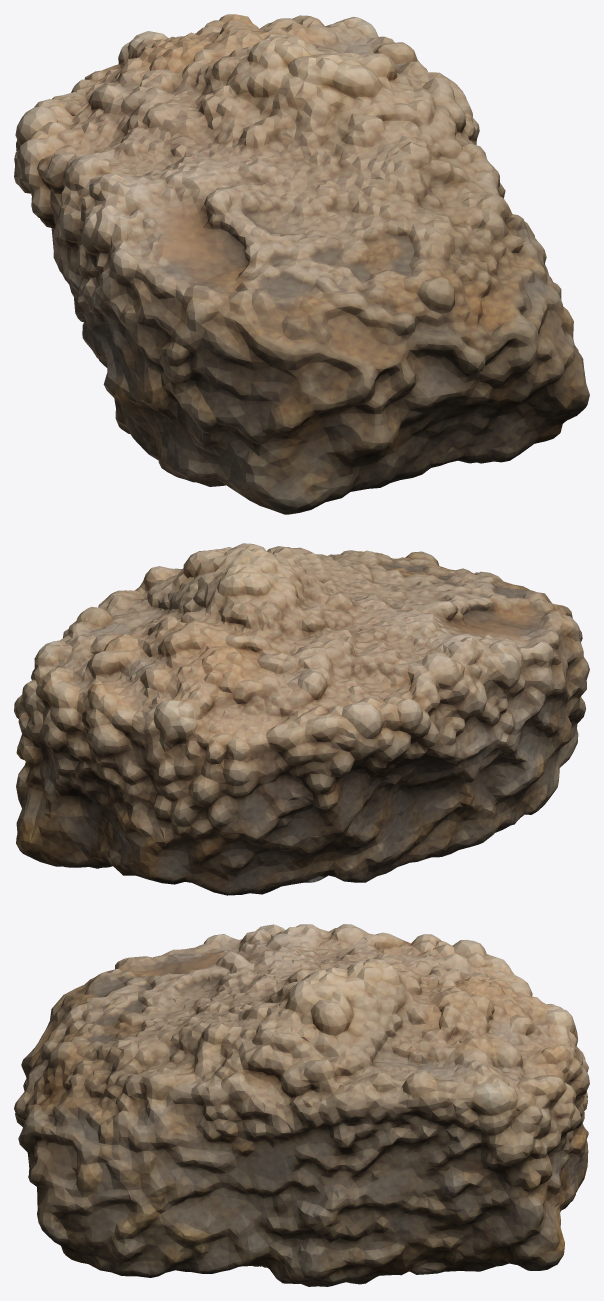
3 renders of one model, top to bottom at view 1: azimuth 30°, elevation 25°; view 2: azimuth 150°, elevation 25°; view 3: azimuth 270°, elevation 25°, orthographic. The views are drawn at different scales.
Parts seen in each view (by area): view 1: world; view 2: world; view 3: world.
Boxes of the visible parts, box(x1,y1,x2,y2) form: world: box(14, 14, 589, 514); world: box(14, 543, 589, 895); world: box(14, 924, 589, 1286).
Size of the model in its own units: 0.761 by 0.5498 by 0.9961.
1 material, 1 textured.
